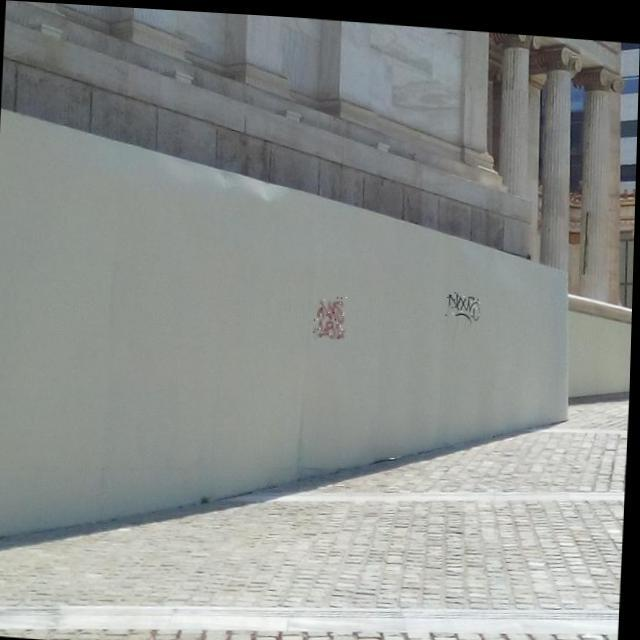-: (314, 290, 350, 336), (447, 284, 482, 312)
